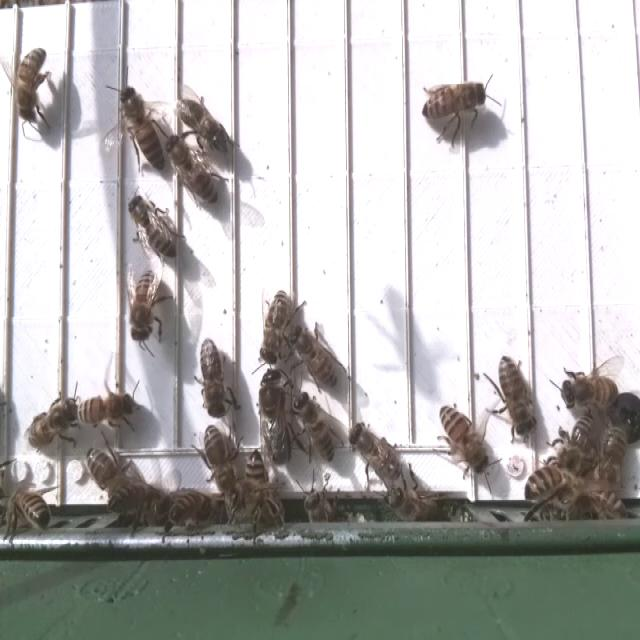Drone: (256, 363, 295, 467)
Worker: (118, 79, 169, 175), (495, 349, 541, 445), (165, 131, 222, 207), (345, 416, 405, 484), (438, 400, 491, 476), (174, 94, 234, 160), (126, 190, 178, 262), (419, 76, 489, 128), (10, 47, 51, 127), (22, 398, 81, 452), (256, 286, 294, 368), (558, 364, 620, 414), (296, 388, 337, 463), (294, 326, 342, 390), (199, 420, 239, 496), (197, 331, 230, 421), (76, 388, 141, 431), (82, 441, 129, 498), (127, 268, 161, 345), (1, 487, 56, 532)
